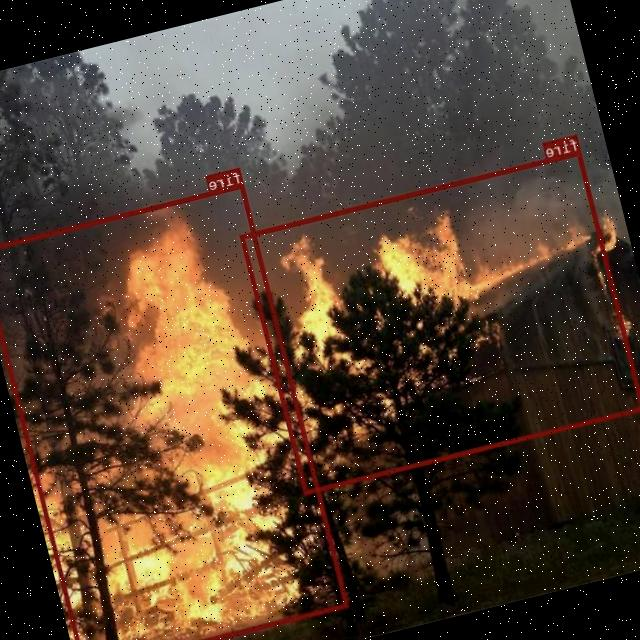fire: (0, 181, 349, 640), (240, 149, 640, 493)
